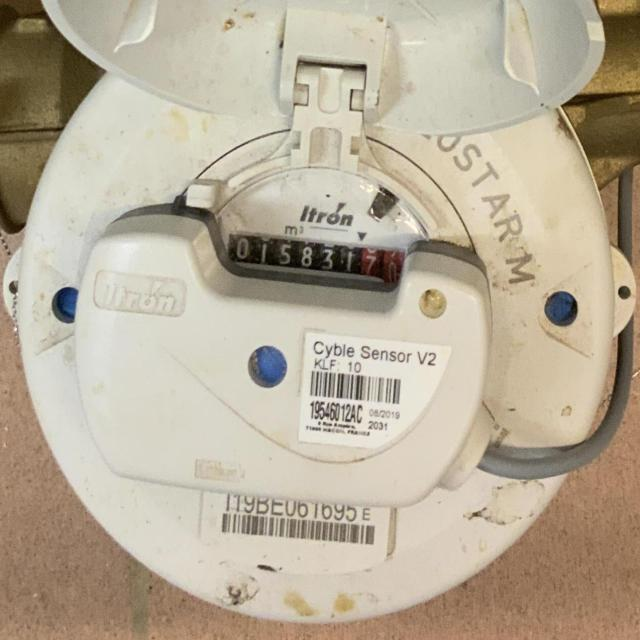gaz_meter: (177, 130, 483, 483)
indication: (227, 228, 406, 291)
